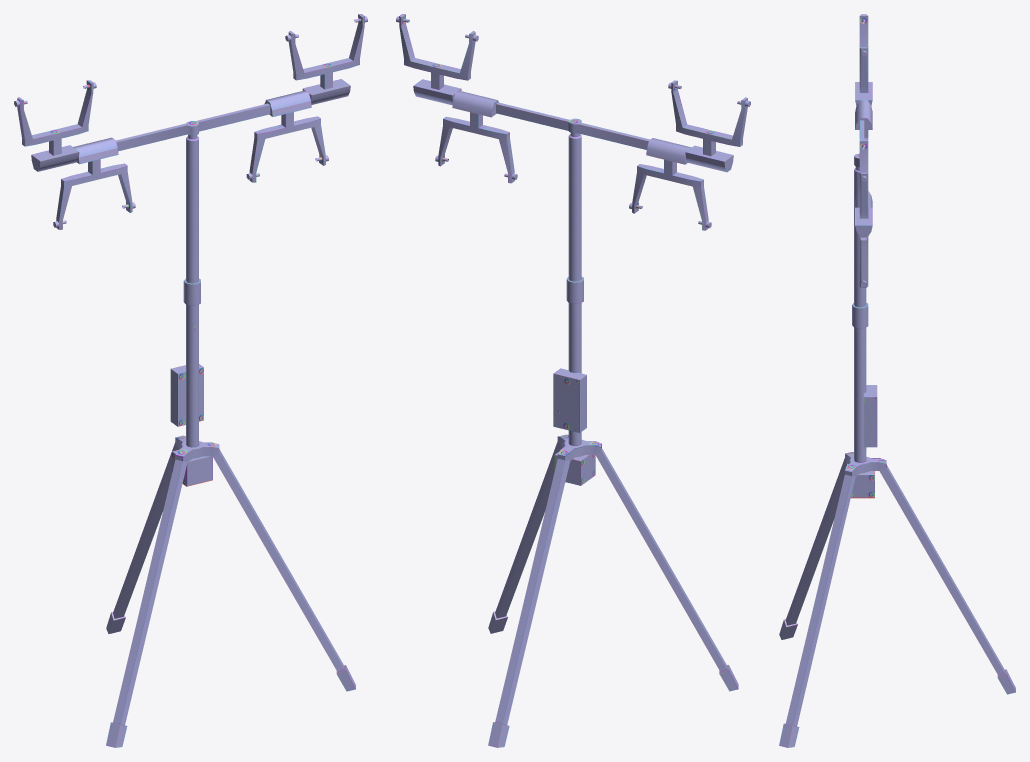
The model's file is LitLampStandA2.fbx.
3 views of the same model, side by side, from view 1: azimuth 30°, elevation 25°; view 2: azimuth 150°, elevation 25°; view 3: azimuth 270°, elevation 25° (orthographic). The views are drawn at different scales.
Visible parts, largest first — view 1: LitLampStandA2, LitLampStandArmA2; view 2: LitLampStandA2, LitLampStandArmA2; view 3: LitLampStandA2, LitLampStandArmA2.
Boxes of the visible parts, x1,y1,x2,y2 form: LitLampStandA2: (106, 278, 355, 747); LitLampStandArmA2: (14, 14, 367, 283); LitLampStandA2: (488, 277, 738, 747); LitLampStandArmA2: (396, 14, 750, 281); LitLampStandA2: (779, 303, 1015, 747); LitLampStandArmA2: (854, 14, 872, 307).
Bounding box in the file's own units: 120 × 206 × 73.92.
1 material, 1 textured.
